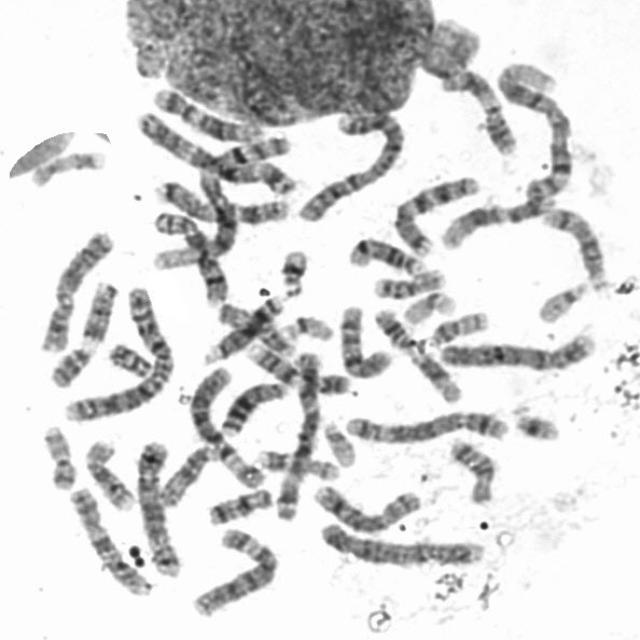A1: (146, 125, 294, 274), (489, 53, 577, 202)
A2: (57, 279, 180, 424), (291, 104, 409, 224)
A3: (128, 102, 298, 195), (270, 345, 326, 524)
B4: (314, 515, 488, 568), (433, 325, 600, 373)
B5: (130, 434, 186, 578), (338, 402, 513, 445)
C10: (61, 480, 153, 598), (332, 296, 395, 379)
C11: (365, 301, 467, 405), (436, 61, 522, 158)
C12: (435, 189, 559, 250), (147, 80, 267, 143)
C6: (182, 360, 271, 490), (185, 520, 282, 619)
C7: (387, 168, 484, 258), (148, 173, 293, 226)
C8: (148, 204, 232, 308), (307, 476, 424, 535)
C9: (43, 272, 120, 389), (240, 337, 352, 396)
D13: (198, 290, 288, 365), (215, 374, 292, 437)
D14: (537, 200, 612, 292), (341, 230, 429, 277)
D15: (210, 295, 297, 360), (152, 437, 222, 509)
E16: (77, 433, 138, 513), (368, 261, 450, 300)
E17: (23, 142, 108, 189), (251, 442, 344, 483)
E18: (443, 430, 499, 506), (201, 481, 277, 527)
F19: (396, 285, 459, 326), (275, 308, 336, 344)
F20: (36, 418, 80, 492), (424, 304, 492, 347)
G21: (506, 398, 564, 443), (272, 241, 312, 299)
G22: (531, 273, 594, 324), (318, 413, 360, 467)
X: (34, 223, 118, 354)
Y: (102, 336, 154, 380)
